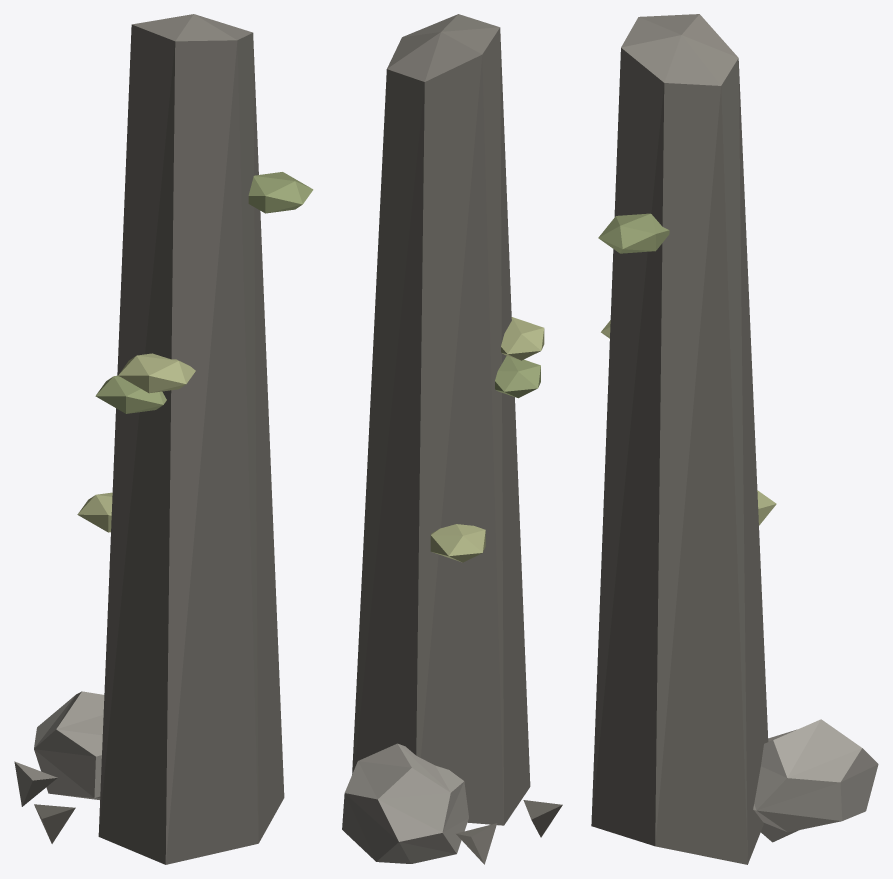
Rendered from menhir.glb.
3 views of the same model, side by side, from view 1: azimuth 30°, elevation 25°; view 2: azimuth 150°, elevation 25°; view 3: azimuth 270°, elevation 25° (orthographic). The views are drawn at different scales.
Size of the model in its own units: 1.02 by 3.5 by 1.13.
